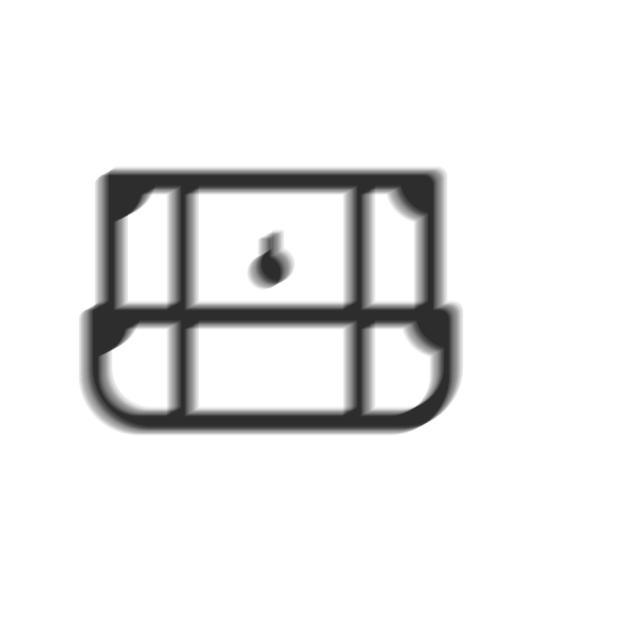treasure_box: (73, 163, 470, 444)
